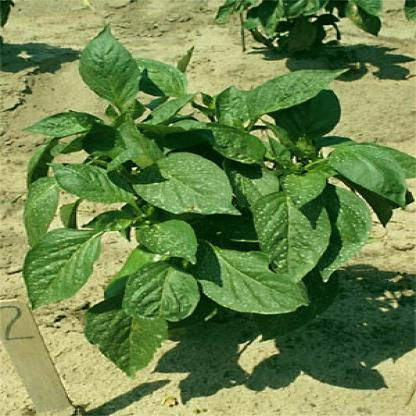Bell_pepper leaf: (197, 236, 319, 316), (16, 224, 108, 319), (79, 304, 169, 386), (254, 190, 330, 286), (242, 56, 353, 121), (137, 150, 240, 217), (124, 262, 198, 320), (48, 159, 134, 202), (18, 178, 61, 249), (138, 218, 200, 264), (278, 171, 332, 206)
